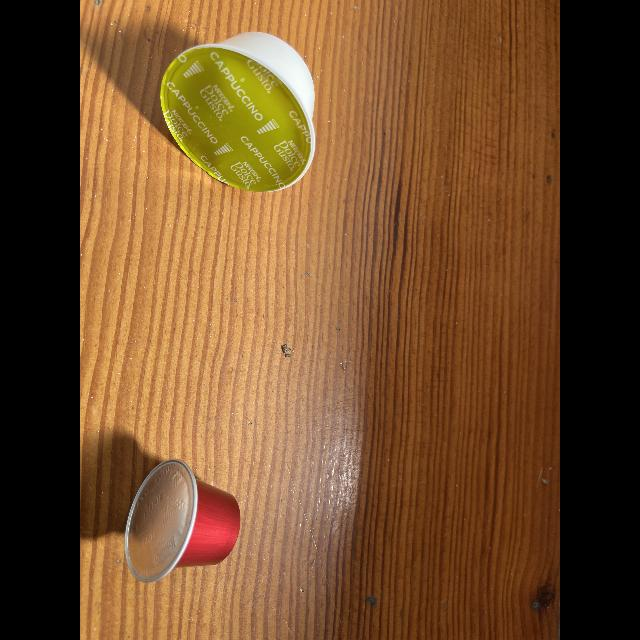intact_capsule: (153, 22, 329, 200), (119, 457, 251, 597)
